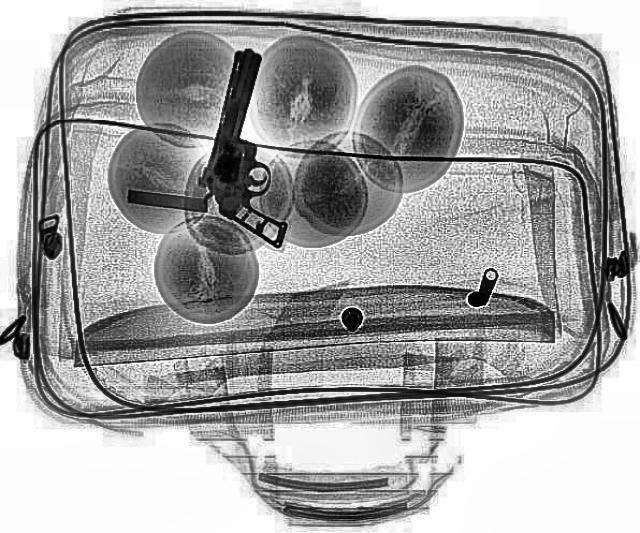Gun: (182, 45, 332, 246)
